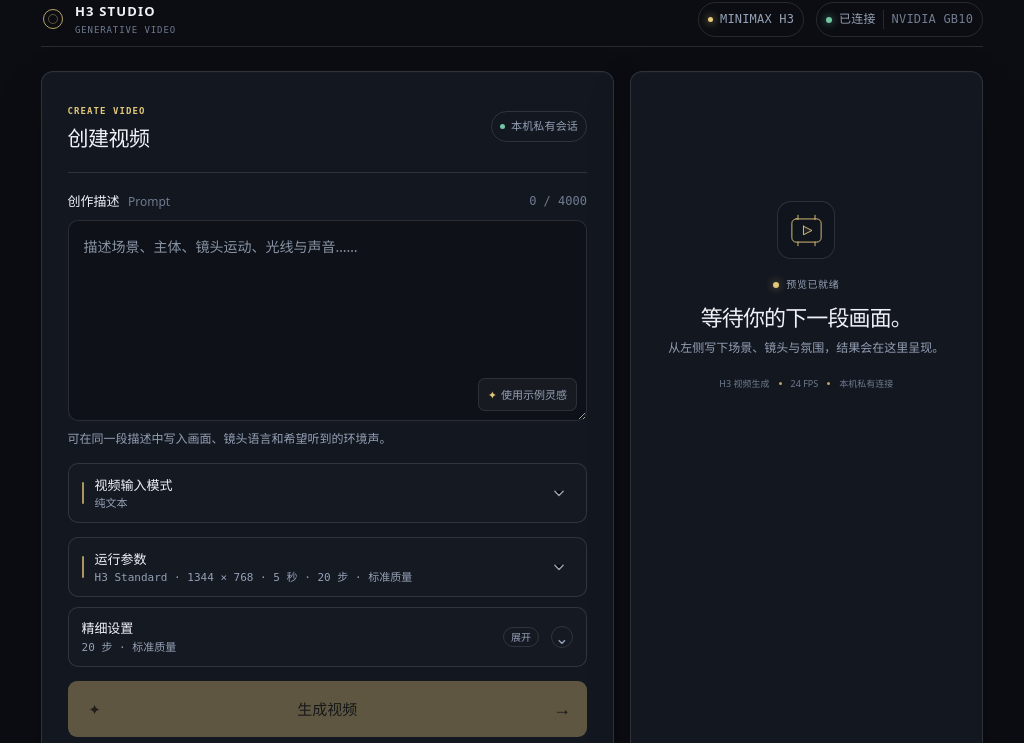
Test: H3 Studio primary screen › separates output aspect from resolution and filters compatible pixel presets
Click the button "运行参数 H3 Standard · 1344 × 768 · 5 秒 · 20 步 · 标准质量".
click(121, 559)  # box [68, 538, 586, 596]
(page scrolled)
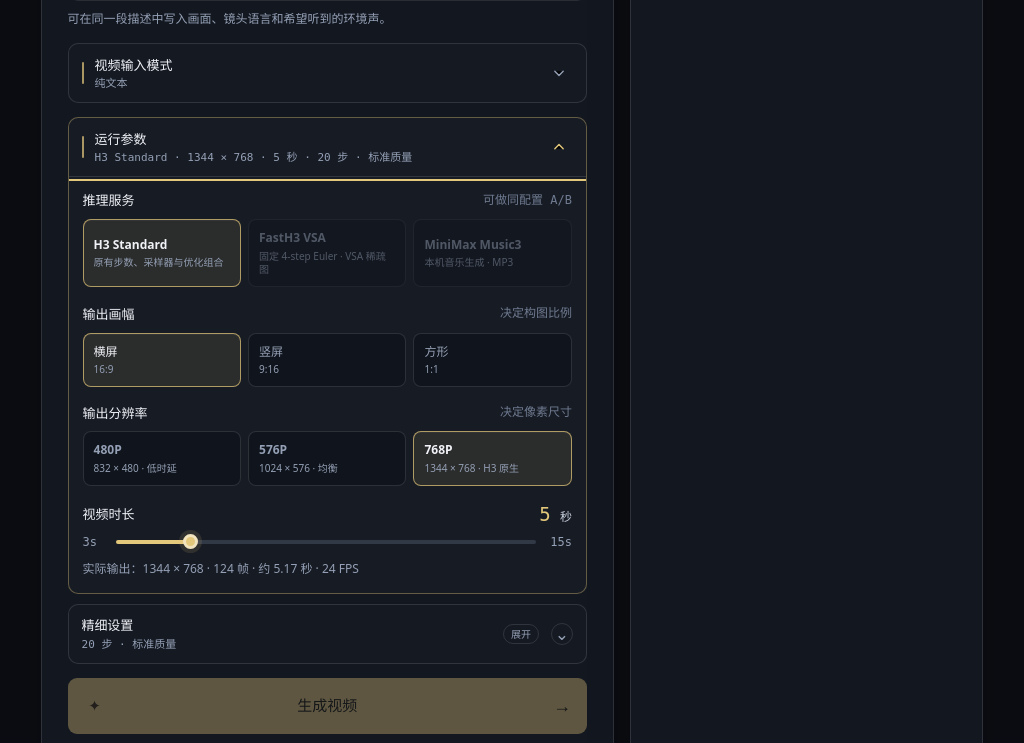
Expected: the button "横屏 16:9" is shown, [82, 332, 241, 387]
Expected: the button "竖屏 9:16" is shown
Expected: the button "方形 1:1" is shown, [414, 332, 572, 387]
Click the button "竖屏 9:16".
click(327, 360)  # box [248, 332, 406, 387]
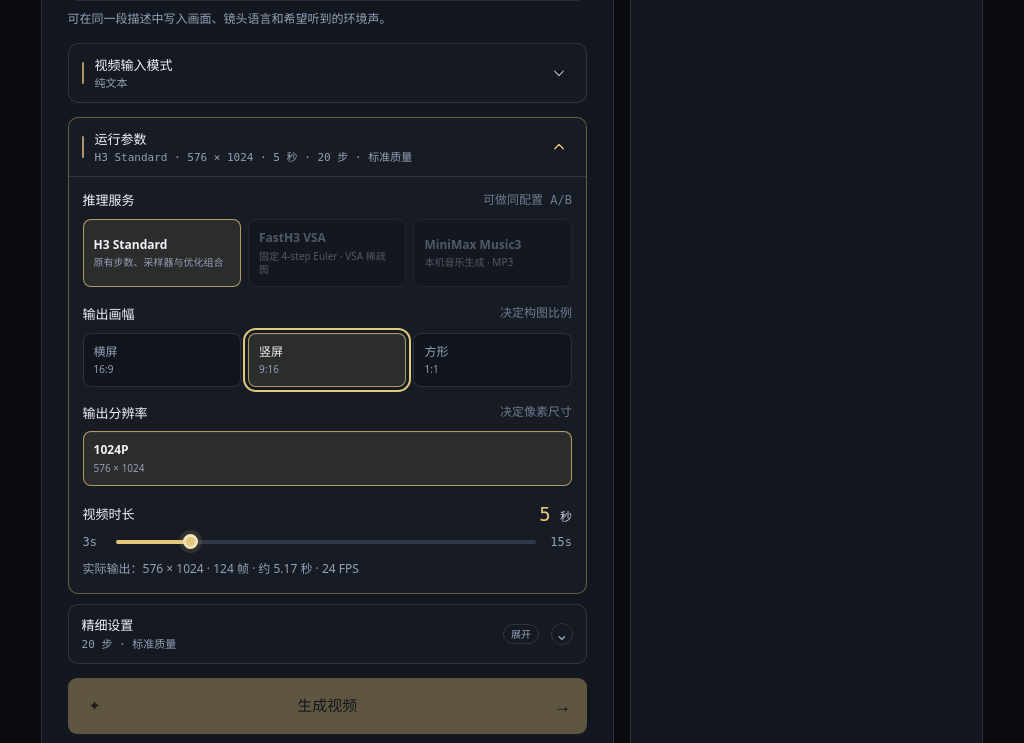
Expected: the text "实际输出：576 × 1024 · 124 帧 · 约 5.17 秒 · 24 FPS" is shown, [82, 560, 359, 577]
Expected: the button "1024P 576 × 1024" is shown, [82, 432, 572, 486]
Expected: the button "480P" is gone
